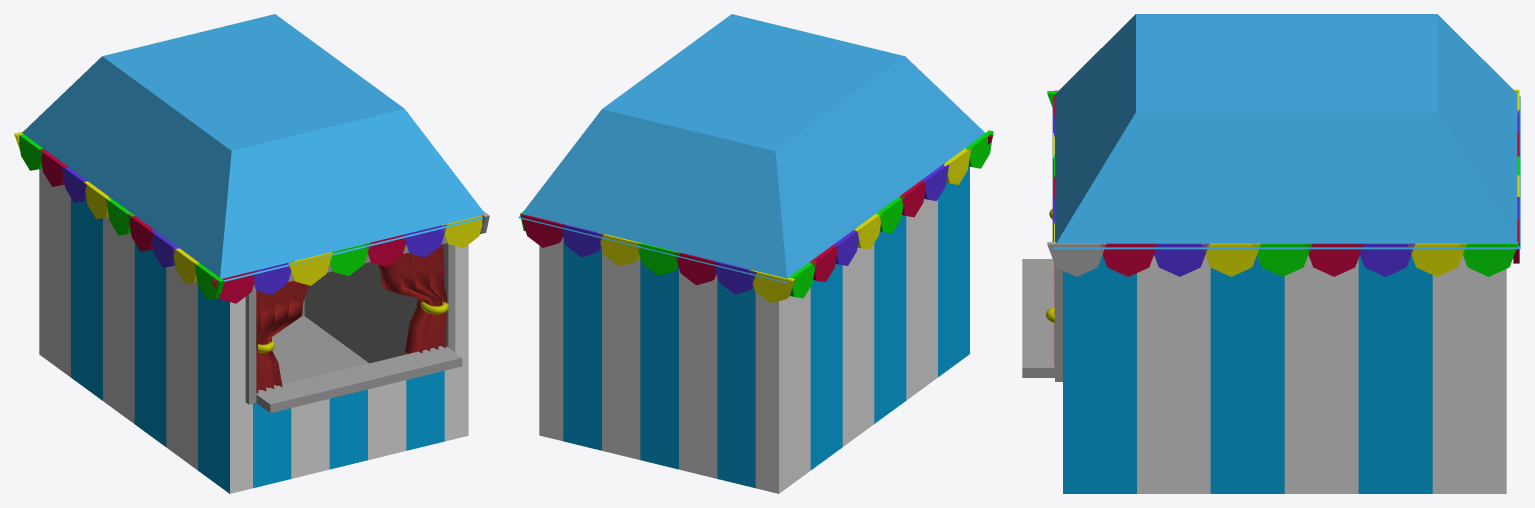
File: TeatroCian9.fbx
The picture shows the model from 3 angles, left to right: view 1: azimuth 30°, elevation 25°; view 2: azimuth 150°, elevation 25°; view 3: azimuth 270°, elevation 25°; orthographic projection. The views are drawn at different scales.
Parts seen in each view (by area): view 1: Techo1, Escenario, Fondo, R_Curtain, L_Curtain, pCylinder30, pCylinder31, pCylinder33, pCylinder29, pCylinder32, pCylinder34, pCylinder28 (+9 smaller); view 2: Escenario, Techo1, pCylinder27, pCylinder21, pCylinder24, pCylinder25, pCylinder26, pCylinder23, pCylinder22, pCylinder16, pCylinder14, pCylinder18 (+6 smaller); view 3: Escenario, Techo1, pCylinder1, pCylinder9, pCylinder4, pCylinder2, pCylinder6, pCylinder8, pCylinder5, pCylinder7, pCylinder3.
Boxes of the visible parts, x1,y1,x2,y2 form: Techo1: (22,14,484,281); Escenario: (39,168,468,493); Fondo: (258,244,444,390); R_Curtain: (378,243,446,353); L_Curtain: (256,281,308,393); pCylinder30: (288,252,332,285); pCylinder31: (403,224,446,257); pCylinder33: (326,242,370,276); pCylinder29: (250,261,293,294); pCylinder32: (441,215,482,248); pCylinder34: (365,235,406,266); pCylinder28: (211,270,257,303); Escenario: (539,166,969,493); Techo1: (518,14,985,283); pCylinder27: (749,270,795,303); pCylinder21: (520,214,565,247); pCylinder24: (636,242,680,275); pCylinder25: (674,252,718,285); pCylinder26: (713,261,756,294); pCylinder23: (597,232,641,266); pCylinder22: (559,223,603,257); pCylinder16: (809,244,838,282); pCylinder14: (876,195,904,233); pCylinder18: (899,180,926,217); Escenario: (1022,255,1506,493); Techo1: (1052,14,1520,249); pCylinder1: (1047,242,1106,276); pCylinder9: (1459,242,1518,276); pCylinder4: (1202,243,1260,276); pCylinder2: (1099,243,1157,276); pCylinder6: (1305,243,1363,276); pCylinder8: (1407,243,1466,276); pCylinder5: (1253,243,1312,276); pCylinder7: (1356,243,1415,276); pCylinder3: (1151,243,1209,276).
Size of the model in its own units: 15.98 by 17.42 by 21.66.
